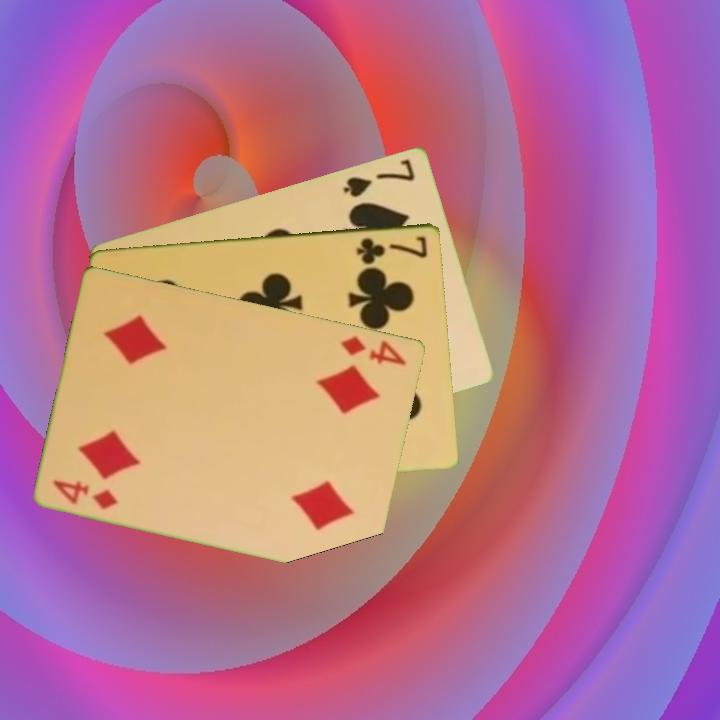4d: (337, 332, 410, 368), (50, 476, 122, 512)
7c: (353, 232, 431, 265)
7s: (340, 155, 418, 200)
